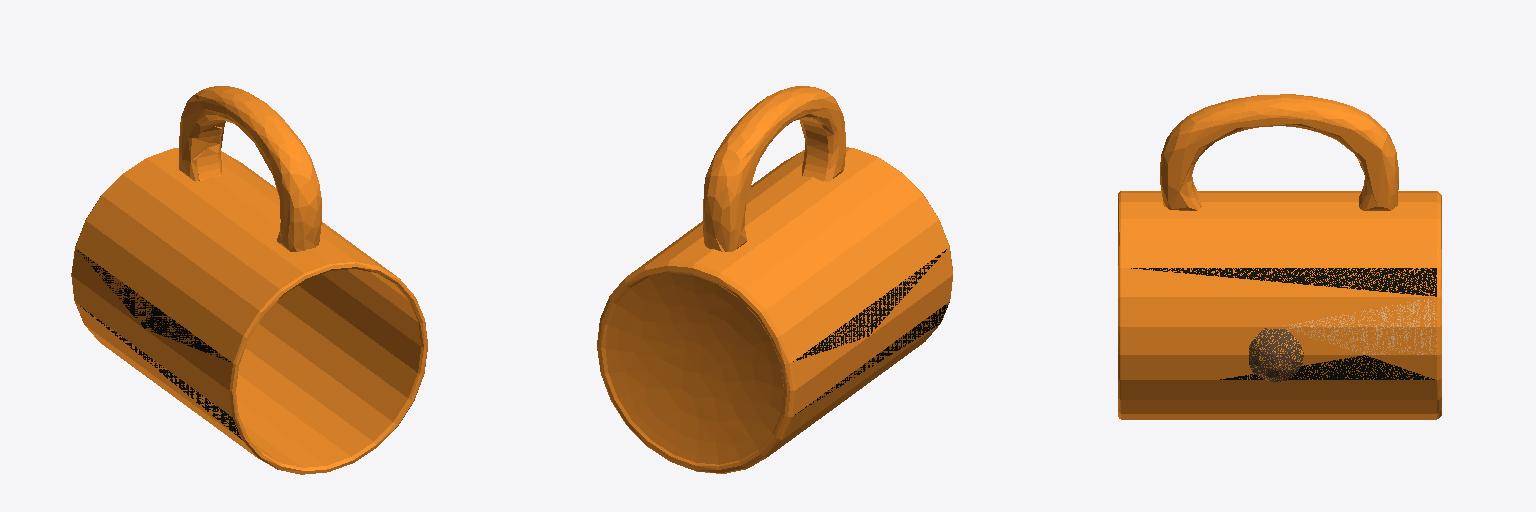
File: model_align.obj
3 renders of one model, left to right at view 1: azimuth 30°, elevation 25°; view 2: azimuth 150°, elevation 25°; view 3: azimuth 270°, elevation 25°, orthographic.
Bounding box in the file's own units: 0.0812 × 0.1145 × 0.1077.